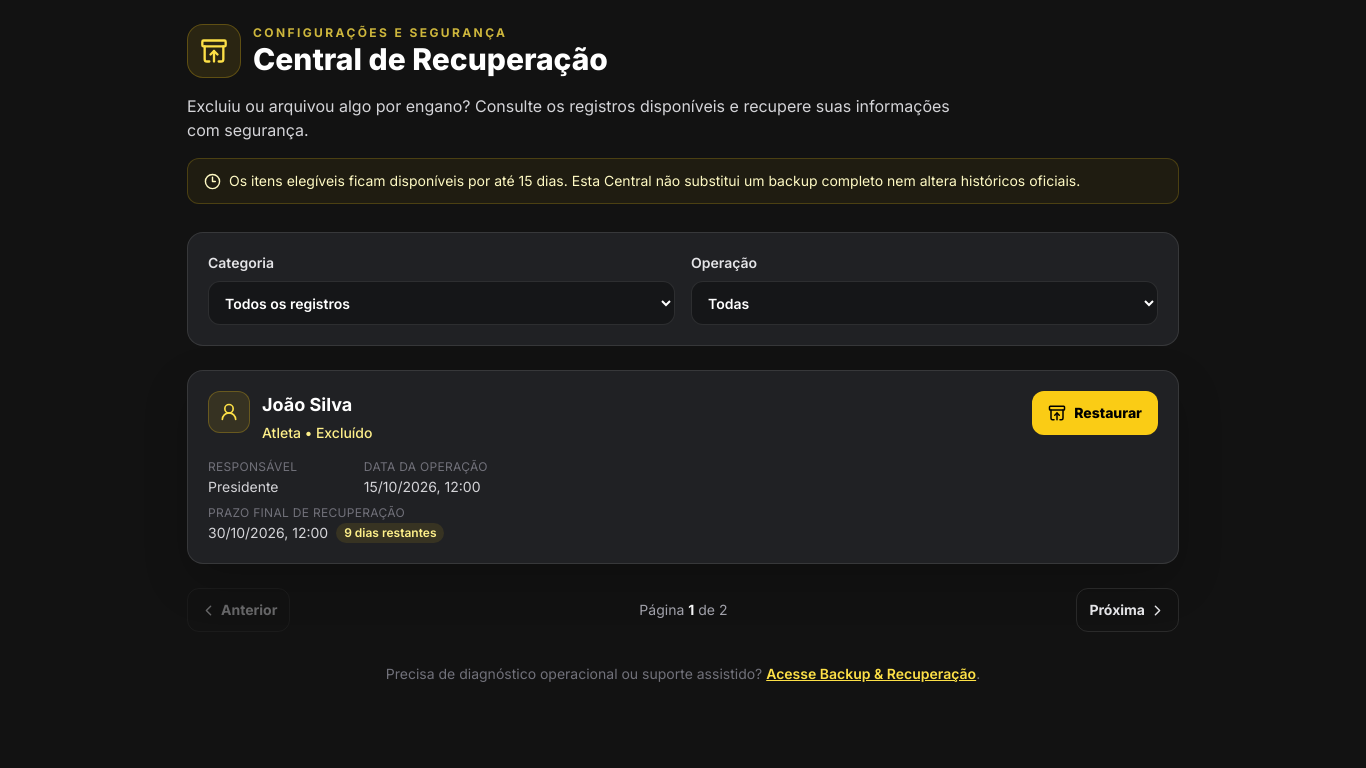
it: RecoveryCenterClient › invalida o modal e o cache lógico ao trocar de tenant
This screenshot has width=1366, height=768.
Click the button "Restaurar" at (1095, 413), box [1032,391,1158,435]
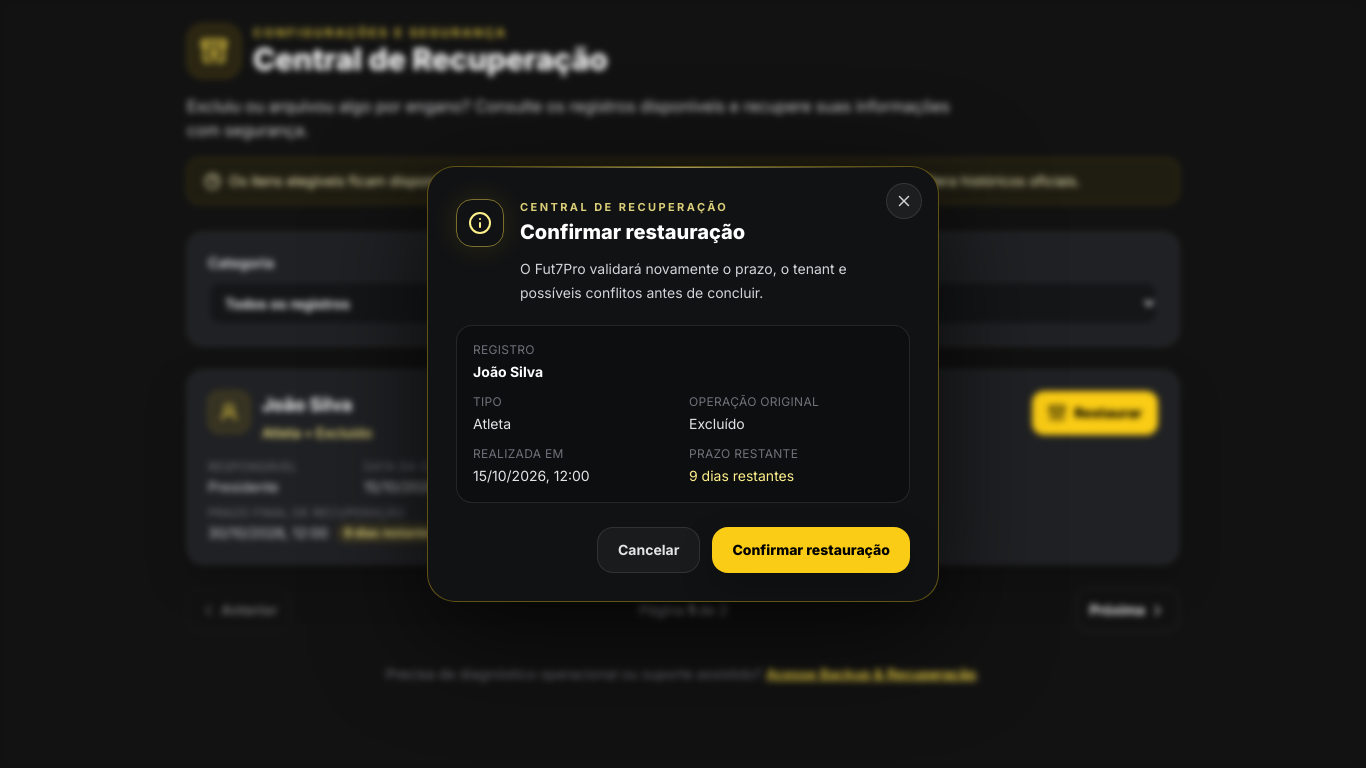
Expected: the heading "Confirmar restauração" is shown, [520,220,745,244]
